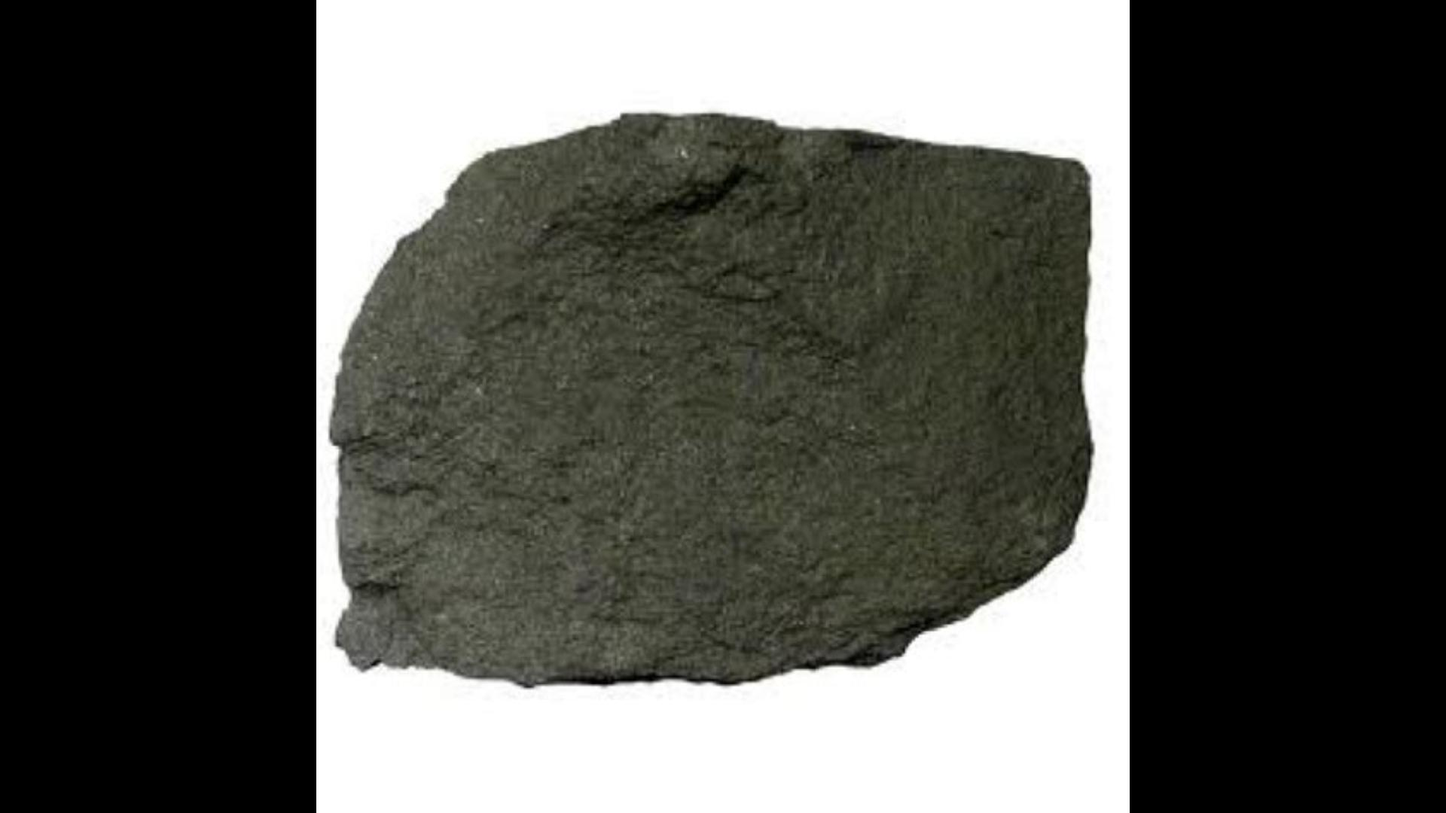rock: (332, 115, 1089, 683)
